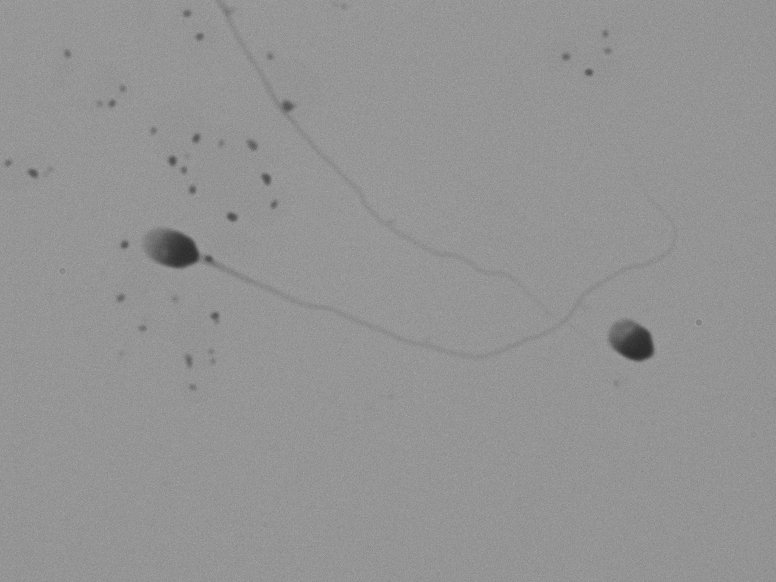Abnormal: (590, 267, 665, 419)
Normal: (109, 176, 600, 420)
